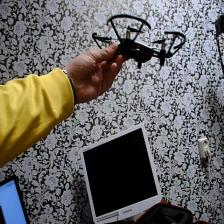drone: (89, 10, 193, 74)
